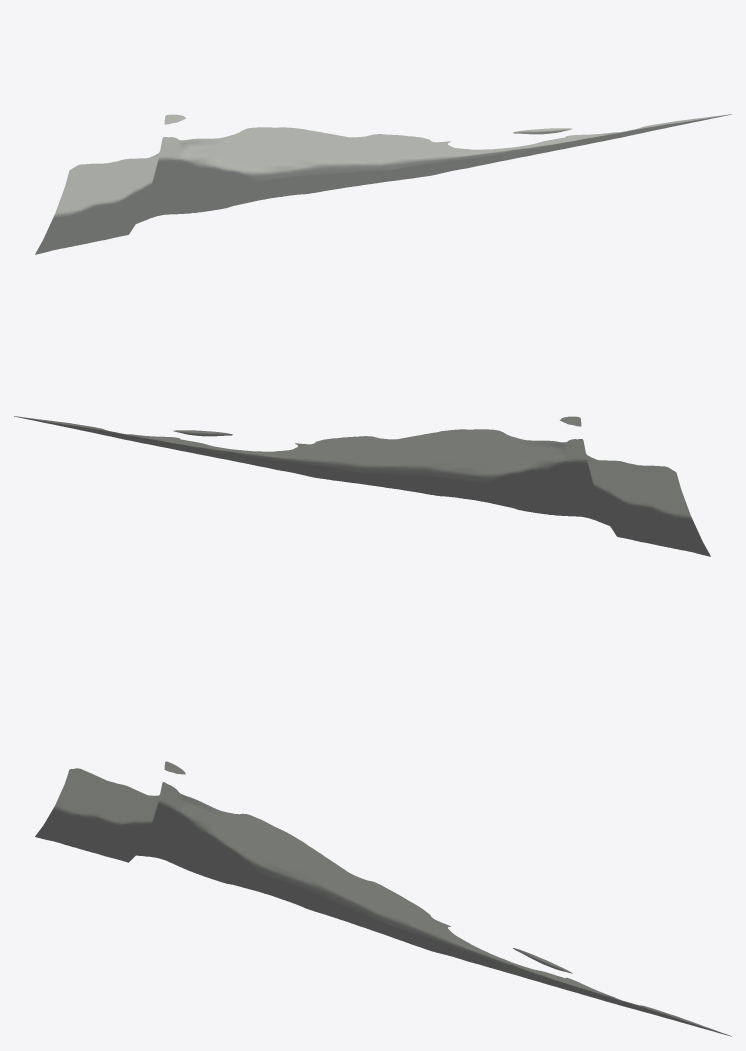
Rendered from Test_15_trail.FBX.
3 renders of one model, top to bottom at view 1: azimuth 30°, elevation 25°; view 2: azimuth 150°, elevation 25°; view 3: azimuth 330°, elevation 25°, orthographic.
Visible parts, largest first — view 1: trail_01; view 2: trail_01; view 3: trail_01.
Part boxes in pixels (<box>): trail_01: <box>35,114,731,254</box>; trail_01: <box>14,416,710,556</box>; trail_01: <box>35,761,731,1036</box>.
Size of the model in its own units: 518 by 0.000494 by 179.
Materials: 1 (1 with a texture image).
